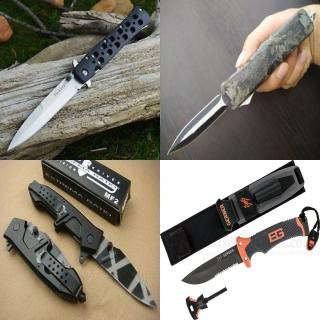knife: (164, 28, 290, 156), (4, 67, 82, 153), (90, 233, 158, 311), (178, 245, 244, 287)
